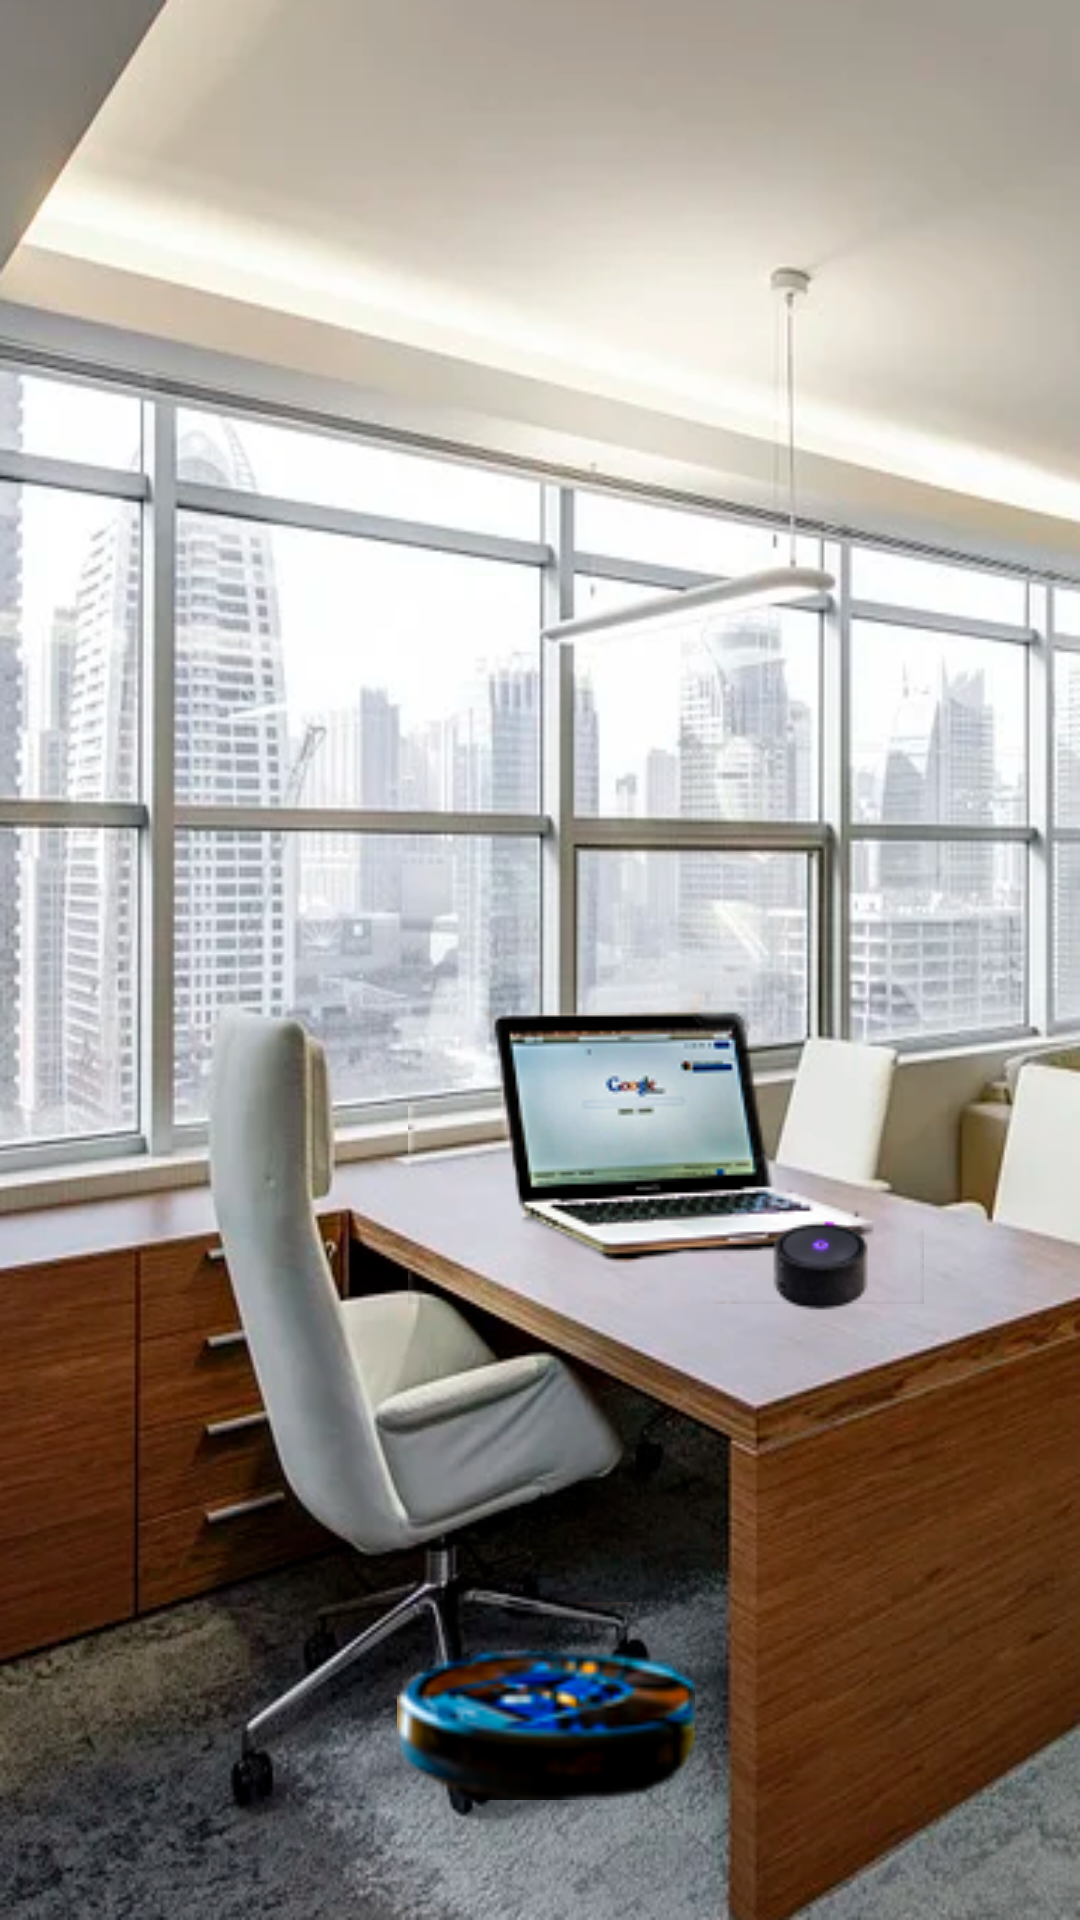

Icon click points for this 1080x1920 phone screenshot, format point (x, y):
vacuum cleaner: point (546, 1701)
